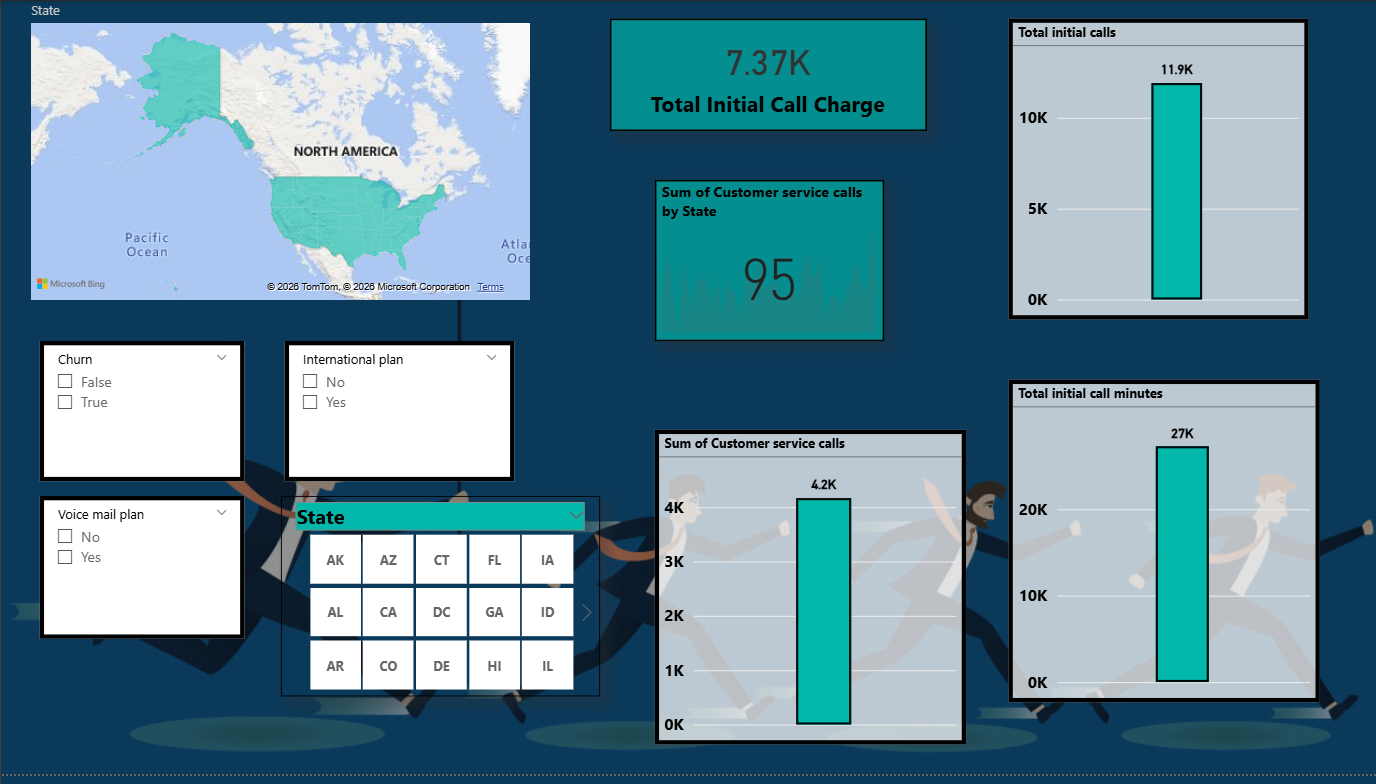

The page's visual inventory and layout, read from the dashboard file:
{"tool":"powerbi","page":{"name":"Initial Calls","canvas":[1280,720],"ordinal":2},"visuals":[{"type":"clusteredColumnChart","title":"Total initial calls","fields":{"Y":["Sum(churn-bigml-80.Total intl calls)"]},"box":[937.2,16.3,279.1,280.2],"z":0},{"type":"clusteredColumnChart","title":"Total initial call minutes","fields":{"Y":["Sum(churn-bigml-80.Total intl minutes)"]},"box":[937.2,352.3,289.5,300],"z":1000},{"type":"card","fields":{"Values":["churn-bigml-80.Total Initial Call Charge"]},"box":[566.3,16.3,295.3,104.7],"z":2000},{"type":"slicer","fields":{"Values":["churn-bigml-80.State"]},"box":[260.5,460.5,296.5,186],"z":3000},{"type":"slicer","fields":{"Values":["churn-bigml-80.Churn"]},"box":[36,316.3,190.7,130.2],"z":4000},{"type":"filledMap","fields":{"Category":["churn-bigml-80.State"]},"box":[23.3,0,474.4,282.6],"z":5000},{"type":"slicer","fields":{"Values":["churn-bigml-80.International plan"]},"box":[264,316.3,214,130.2],"z":6000},{"type":"slicer","fields":{"Values":["churn-bigml-80.Voice mail plan"]},"box":[36,460.5,190.7,132.6],"z":7000},{"type":"clusteredColumnChart","fields":{"Y":["Sum(churn-bigml-80.Customer service calls)"]},"box":[608.1,398.8,289.5,293],"z":8000},{"type":"kpi","fields":{"Indicator":["Sum(churn-bigml-80.Customer service calls)"],"TrendLine":["churn-bigml-80.State"]},"box":[608.1,166.3,214,150],"z":8001}]}

Visuals, with their boxes in screenshot pixels (x1, y1, x2, y2), scaled from the page's 1280x720 canvas onto the 1376x784 screenshot:
"Total initial calls" clusteredColumnChart: bbox=(1007, 18, 1308, 323)
"Total initial call minutes" clusteredColumnChart: bbox=(1007, 384, 1319, 710)
card - churn-bigml-80.Total Initial Call Charge: bbox=(609, 18, 926, 132)
slicer - churn-bigml-80.State: bbox=(280, 501, 599, 704)
slicer - churn-bigml-80.Churn: bbox=(39, 344, 244, 486)
filledMap - churn-bigml-80.State: bbox=(25, 0, 535, 308)
slicer - churn-bigml-80.International plan: bbox=(284, 344, 514, 486)
slicer - churn-bigml-80.Voice mail plan: bbox=(39, 501, 244, 646)
clusteredColumnChart - Sum(churn-bigml-80.Customer service calls): bbox=(654, 434, 965, 753)
kpi - Sum(churn-bigml-80.Customer service calls) x churn-bigml-80.State: bbox=(654, 181, 884, 344)
